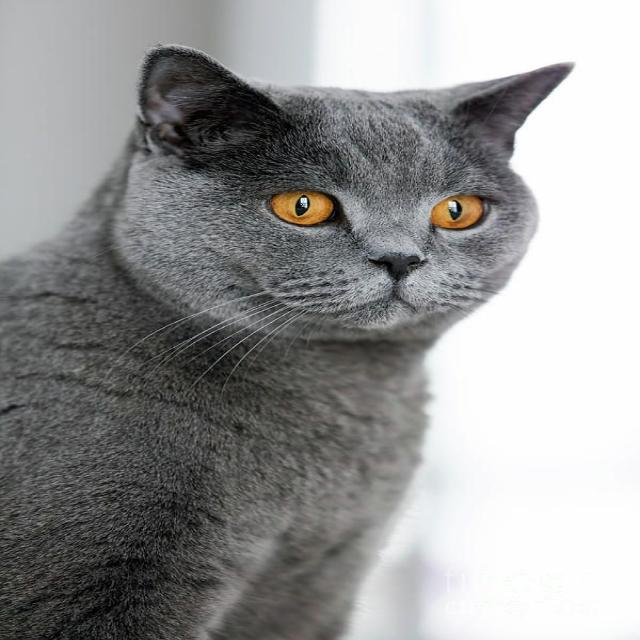british shorthair: (0, 10, 640, 630)
